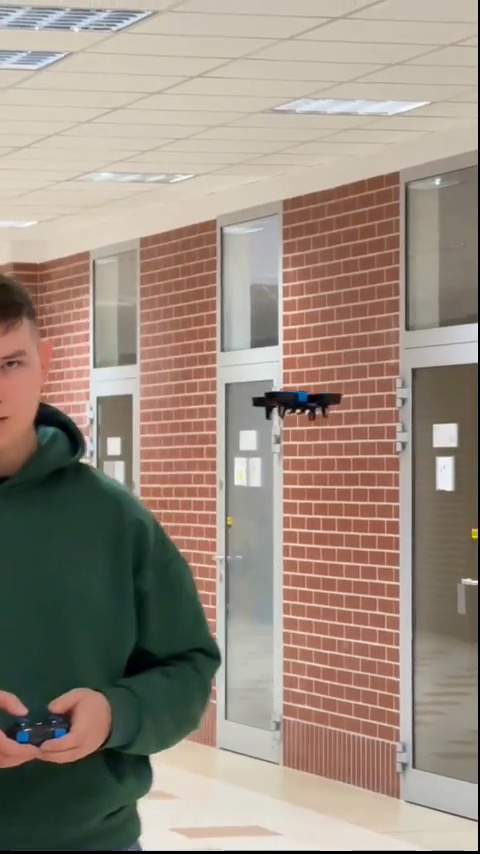drone: (248, 388, 342, 418)
no vest: (0, 271, 224, 854)
